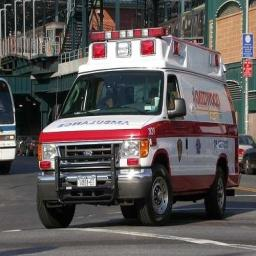Ambulance: (37, 28, 238, 227)
